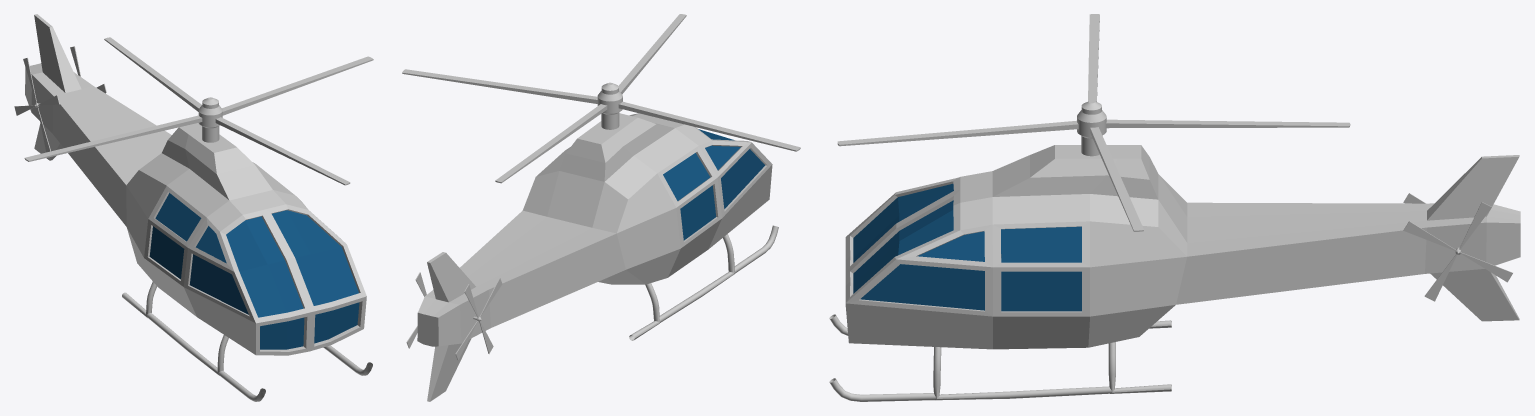
The model's file is helicopter_animation_000007.obj.
3 renders of one model, left to right at view 1: azimuth 30°, elevation 25°; view 2: azimuth 150°, elevation 25°; view 3: azimuth 270°, elevation 25°, orthographic. The views are drawn at different scales.
Parts seen in each view (by area): view 1: Helicopter.007_Cylinder.008, Helicopter.001_Cylinder.001, Helicopter.004_Cylinder.005; view 2: Helicopter.007_Cylinder.008, Helicopter.001_Cylinder.001, Helicopter.004_Cylinder.005; view 3: Helicopter.007_Cylinder.008, Helicopter.001_Cylinder.001, Helicopter.003_Cylinder.004.
Part boxes in pixels (box(x1,y1,x2,y2)): Helicopter.007_Cylinder.008: box(25, 14, 372, 401); Helicopter.001_Cylinder.001: box(24, 37, 373, 185); Helicopter.004_Cylinder.005: box(14, 57, 59, 152); Helicopter.007_Cylinder.008: box(417, 113, 778, 401); Helicopter.001_Cylinder.001: box(402, 14, 800, 183); Helicopter.004_Cylinder.005: box(455, 277, 502, 360); Helicopter.007_Cylinder.008: box(829, 145, 1520, 401); Helicopter.001_Cylinder.001: box(837, 14, 1350, 231); Helicopter.003_Cylinder.004: box(1403, 202, 1512, 301).
Size of the model in its own units: 5.55 by 3.2 by 7.49.
